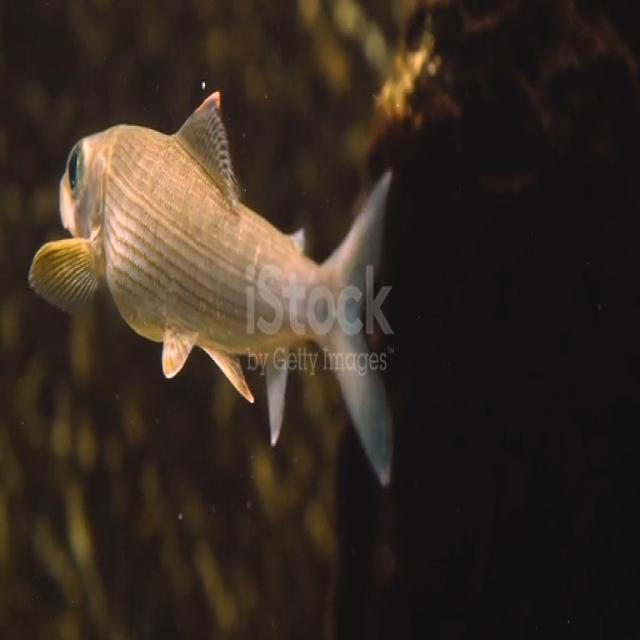fish: (23, 85, 404, 486)
